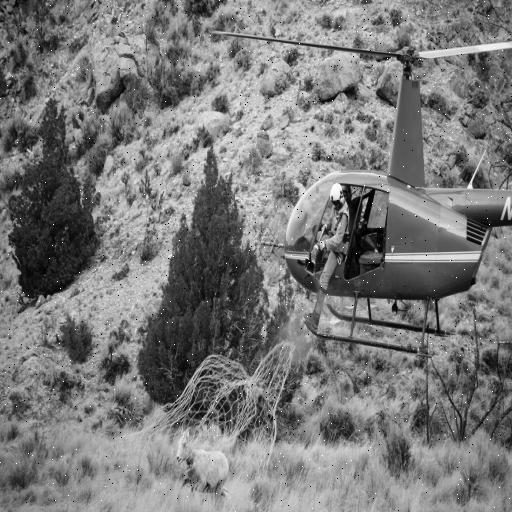helicopter: (211, 32, 512, 355)
